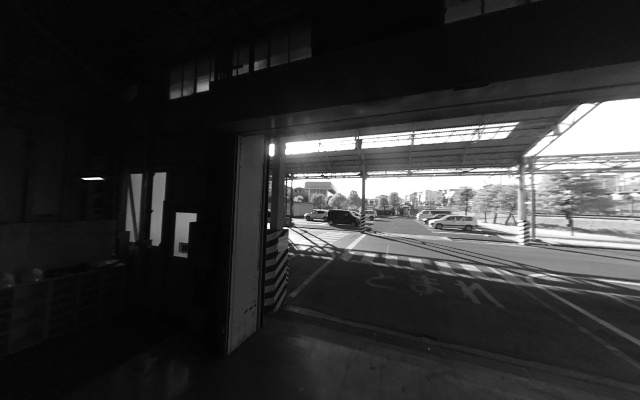bollard: (262, 230, 288, 313), (519, 218, 531, 249), (358, 212, 366, 232)
